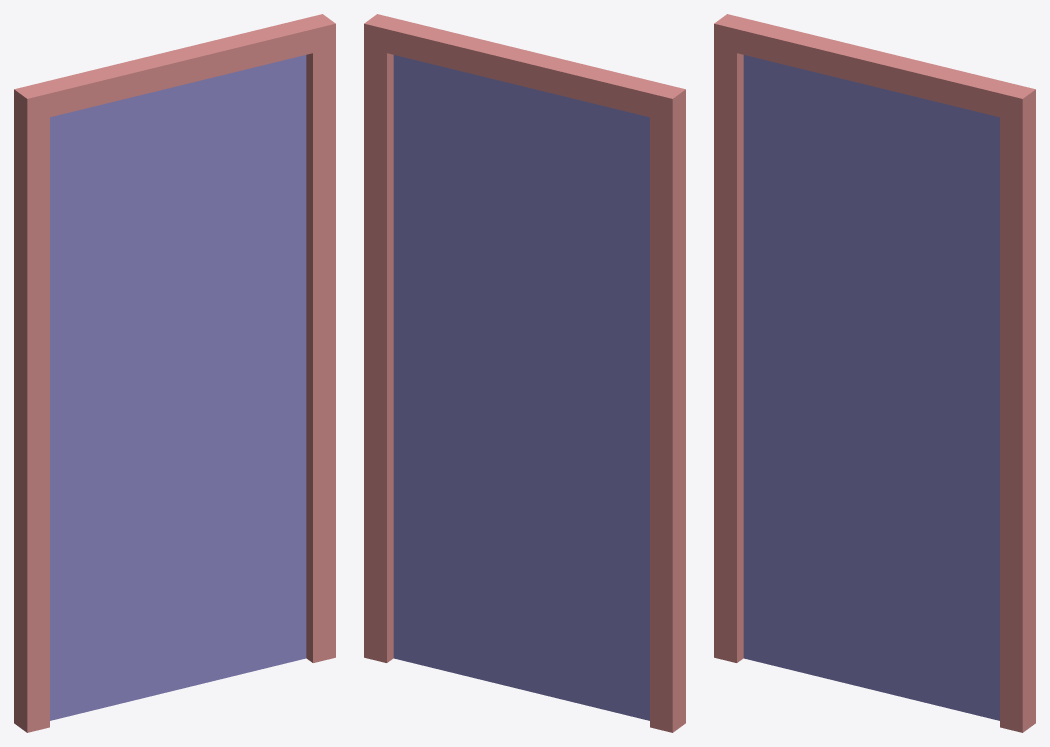
File: door.FBX
3 views of the same model, side by side, from view 1: azimuth 30°, elevation 25°; view 2: azimuth 150°, elevation 25°; view 3: azimuth 330°, elevation 25° (orthographic).
Visible parts, largest first — view 1: Box004; view 2: Box004; view 3: Box004.
Boxes of the visible parts, left/top/right/bottom form: Box004: left=14, top=14, right=335, bottom=732; Box004: left=364, top=14, right=685, bottom=732; Box004: left=714, top=14, right=1035, bottom=732.
Size of the model in its own units: 1.08 by 2.12 by 0.08.
